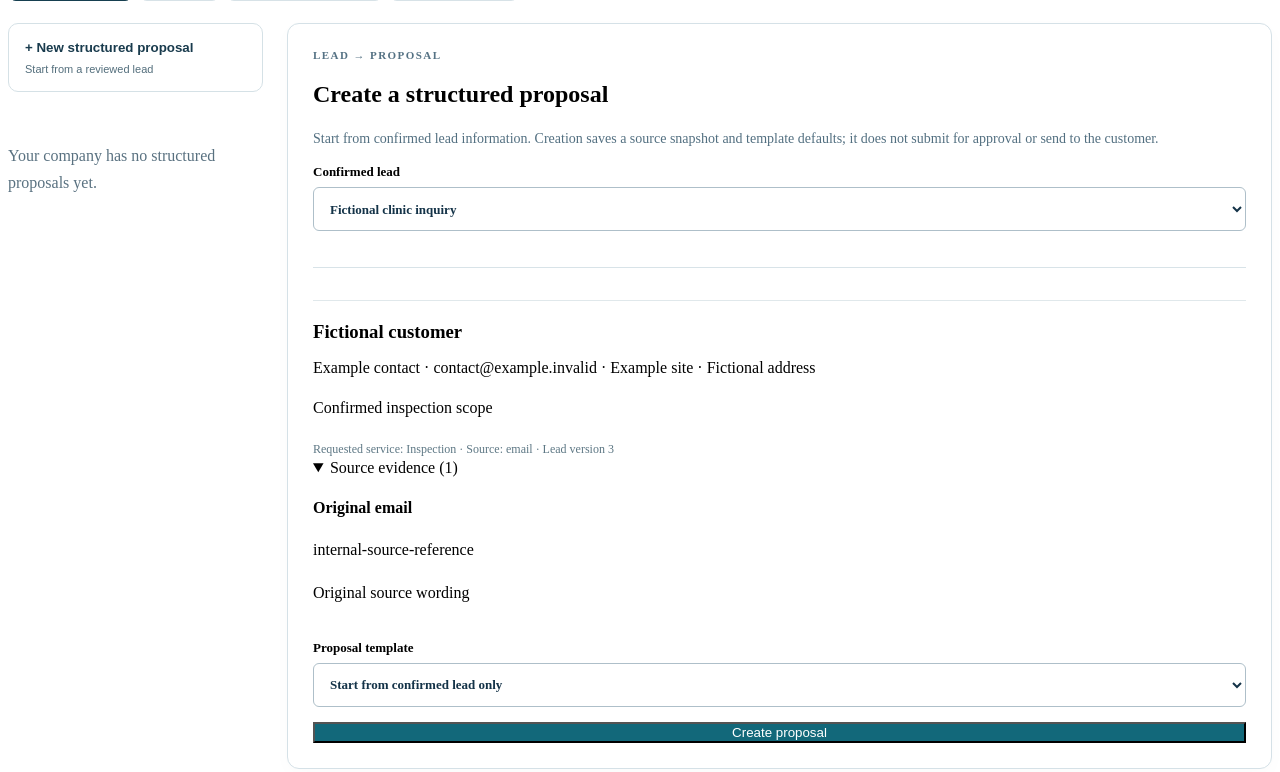
it: structured commercial workspace › keeps the idempotency key on an ambiguous creation retry
This screenshot has width=1280, height=772.
(page scrolled)
Click the button "Create proposal": (780, 732) [313, 722, 1246, 743]
(page scrolled)
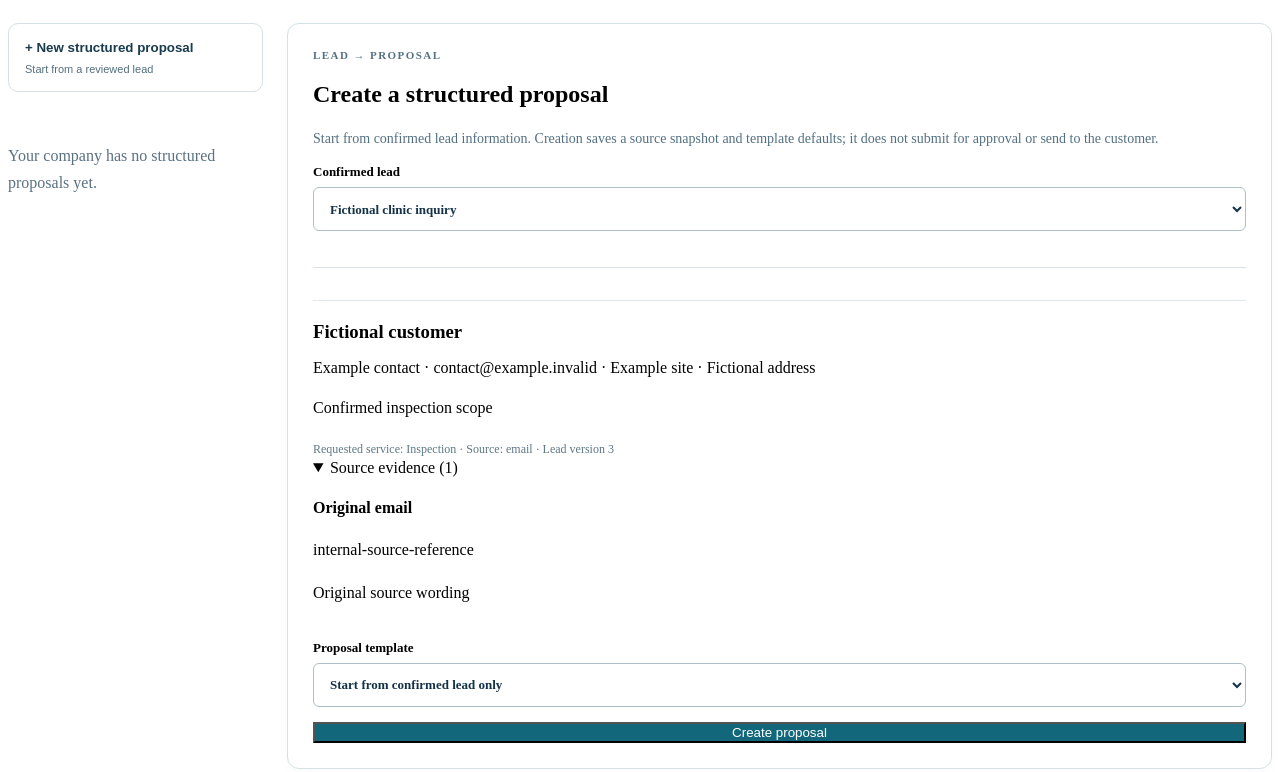
Click the button "Create proposal": (780, 732) [313, 722, 1246, 743]
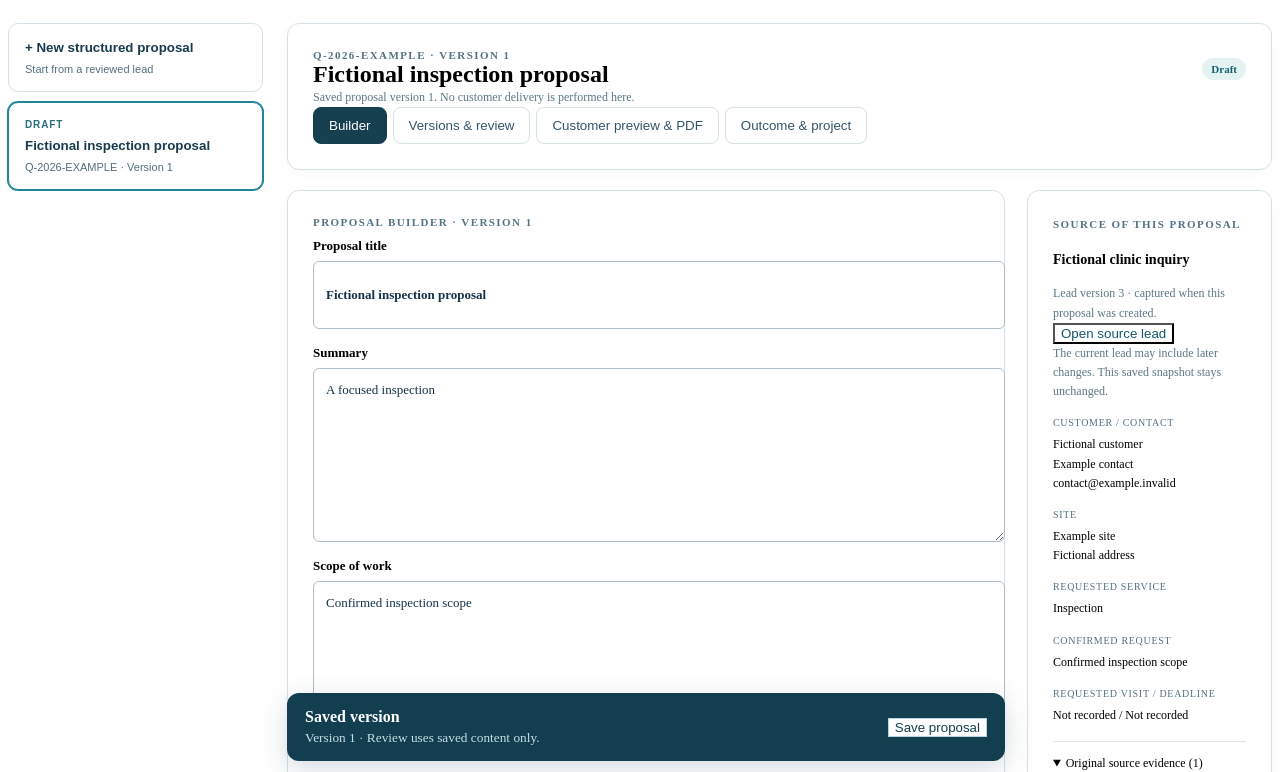
Expected: the field labelled "Proposal title" is shown, [313, 261, 1005, 329]
